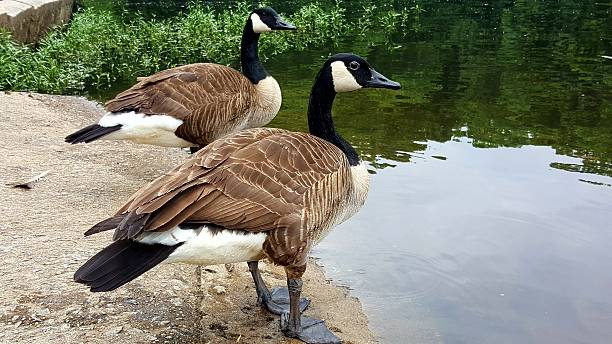goose: (75, 51, 403, 342), (61, 5, 299, 154)
